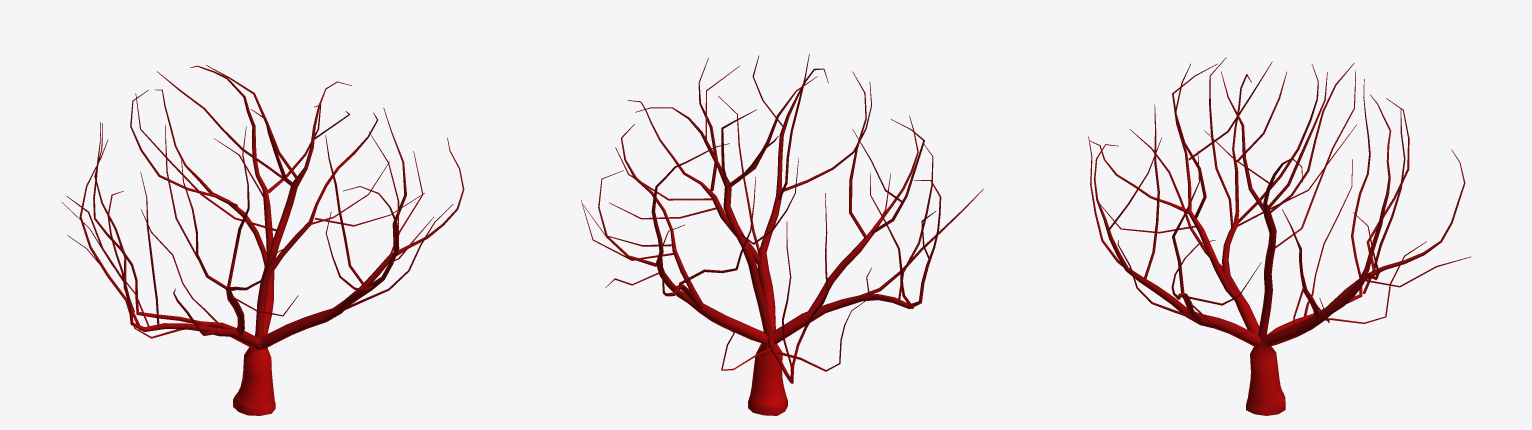
File: oak_a_lod1.glb
3 renders of one model, left to right at view 1: azimuth 30°, elevation 25°; view 2: azimuth 150°, elevation 25°; view 3: azimuth 270°, elevation 25°, orthographic.
Parts seen in each view (by area): view 1: oak_a_LOD1; view 2: oak_a_LOD1; view 3: oak_a_LOD1.
Boxes of the visible parts, x1,y1,x2,y2 form: oak_a_LOD1: [62, 65, 464, 415]; oak_a_LOD1: [581, 54, 983, 415]; oak_a_LOD1: [1088, 57, 1471, 415].
Size of the model in its own units: 18.2 by 14.61 by 17.99.
